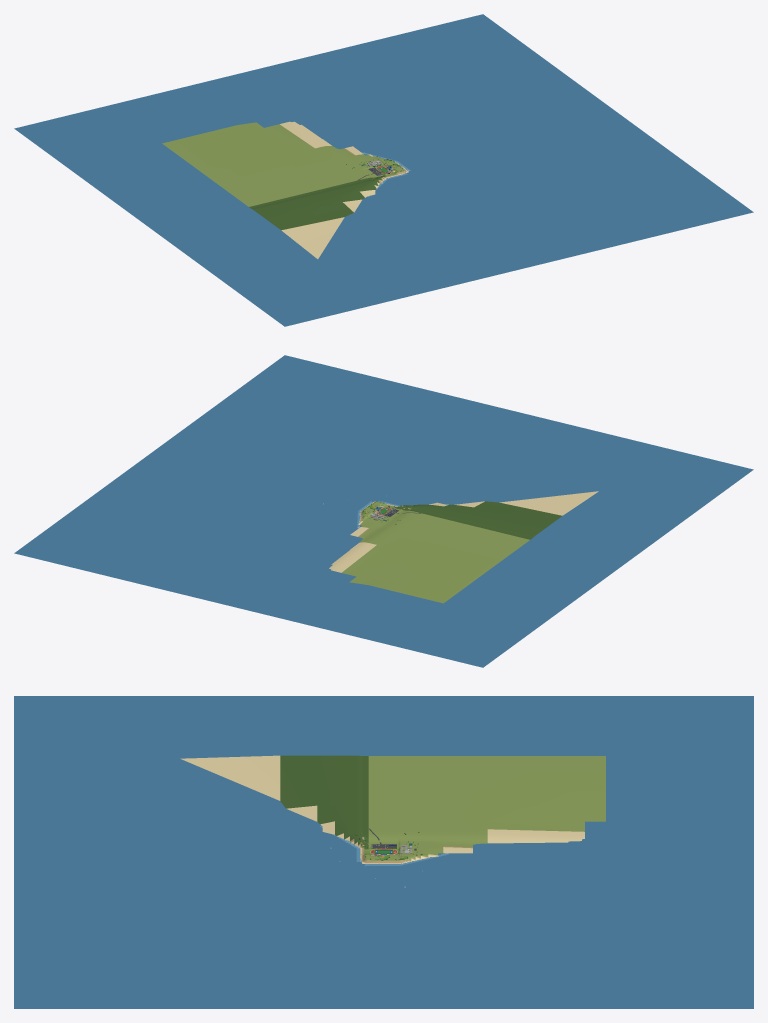
The model's file is dolphinhills.glb.
3 renders of one model, top to bottom at view 1: azimuth 30°, elevation 25°; view 2: azimuth 150°, elevation 25°; view 3: azimuth 270°, elevation 25°, orthographic. The views are drawn at different scales.
Parts seen in each view (by area): view 1: dolphinhills; view 2: dolphinhills; view 3: dolphinhills.
Boxes of the visible parts, x1,y1,x2,y2 form: dolphinhills: (14,14,753,326); dolphinhills: (14,355,753,667); dolphinhills: (14,696,753,1008).
Bounding box in the file's own units: 5000 × 42.7 × 5000.
